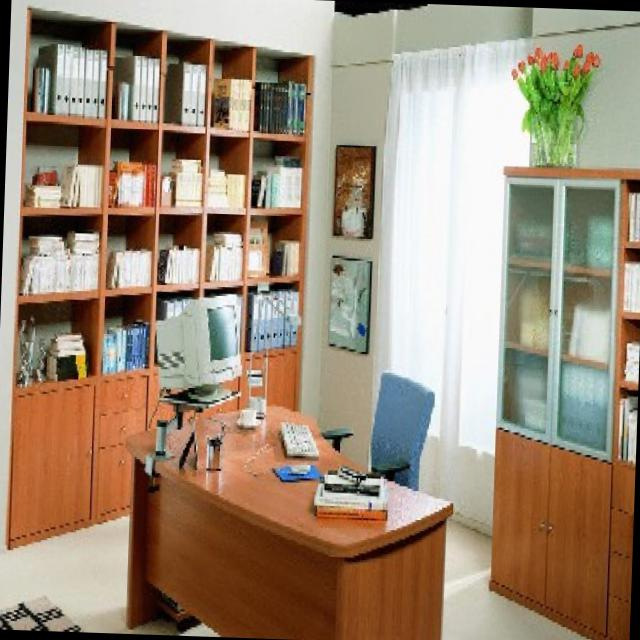2001: (387, 78, 529, 451)
binders: (558, 365, 608, 451), (53, 42, 109, 116), (250, 289, 300, 350), (164, 63, 209, 126), (132, 55, 161, 120), (162, 297, 196, 318)
book shelves: (6, 5, 315, 547), (490, 164, 640, 640)
books crop: (22, 230, 101, 293), (312, 468, 387, 521), (253, 80, 308, 134), (102, 317, 150, 376), (567, 303, 612, 362), (109, 158, 158, 207), (255, 156, 302, 206), (161, 156, 202, 206), (213, 78, 252, 130), (44, 333, 88, 378), (61, 162, 104, 207), (519, 288, 550, 349), (206, 230, 242, 282), (106, 249, 151, 287), (158, 246, 200, 284), (207, 167, 247, 206), (25, 164, 61, 206), (586, 215, 613, 267), (248, 219, 271, 279), (516, 222, 551, 258), (270, 240, 301, 276), (618, 398, 636, 460), (623, 261, 640, 310), (34, 67, 52, 112), (524, 399, 545, 431), (116, 79, 131, 119), (624, 339, 638, 381), (629, 191, 640, 241)
chair -occluded-: (321, 368, 434, 491)
cup and saucer: (208, 437, 223, 468)
curtains: (369, 36, 533, 526)
desk calendar: (125, 402, 455, 640)
floor -X: (0, 512, 218, 634), (443, 521, 588, 640)
flowers in pot: (509, 42, 601, 160)
keyboard crop: (280, 422, 319, 455)
monitor: (159, 386, 241, 467)
monitor crop: (155, 292, 243, 401)
mouse: (275, 463, 324, 479)
mouse pad: (291, 460, 312, 473)
painting crop: (329, 253, 373, 354), (333, 142, 376, 237)
rug -partially obscured-: (0, 593, 84, 629)
statue: (15, 316, 36, 384), (36, 334, 47, 382)
wall clock: (324, 0, 640, 591)
